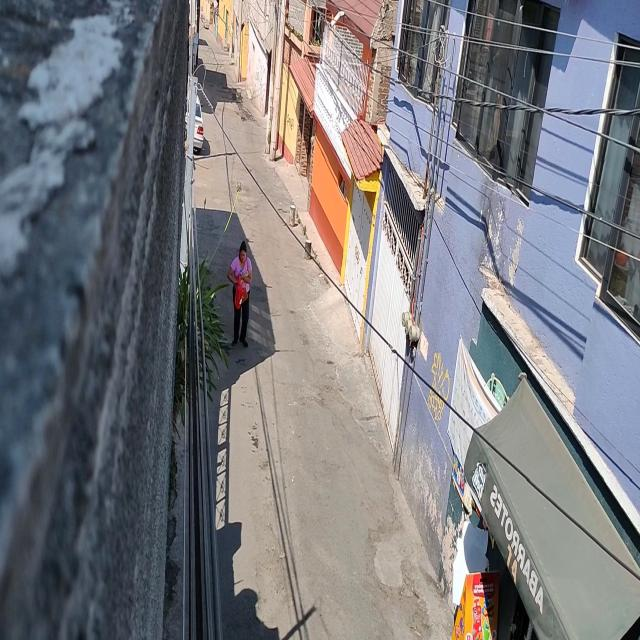adult: (227, 236, 253, 350)
